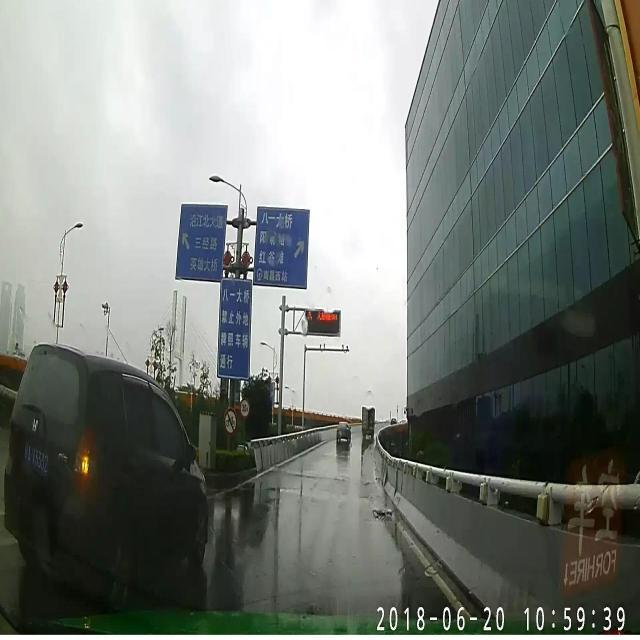car: (2, 342, 209, 572), (360, 403, 374, 438), (336, 421, 351, 444)
